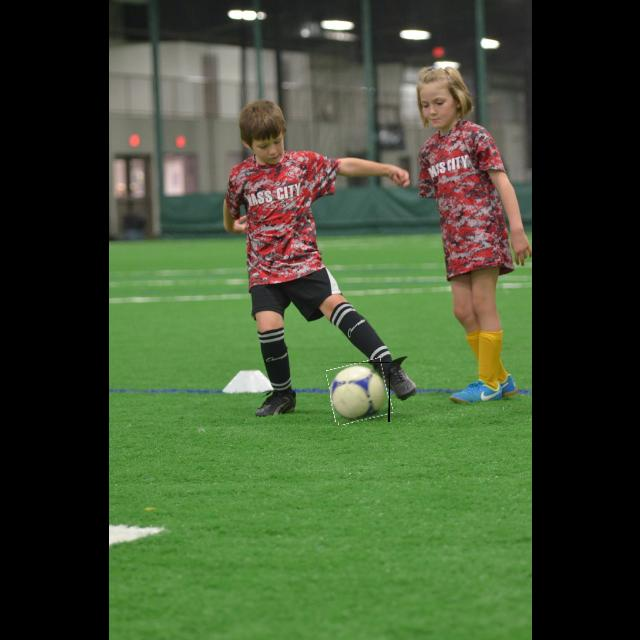Football: (330, 362, 390, 422)
